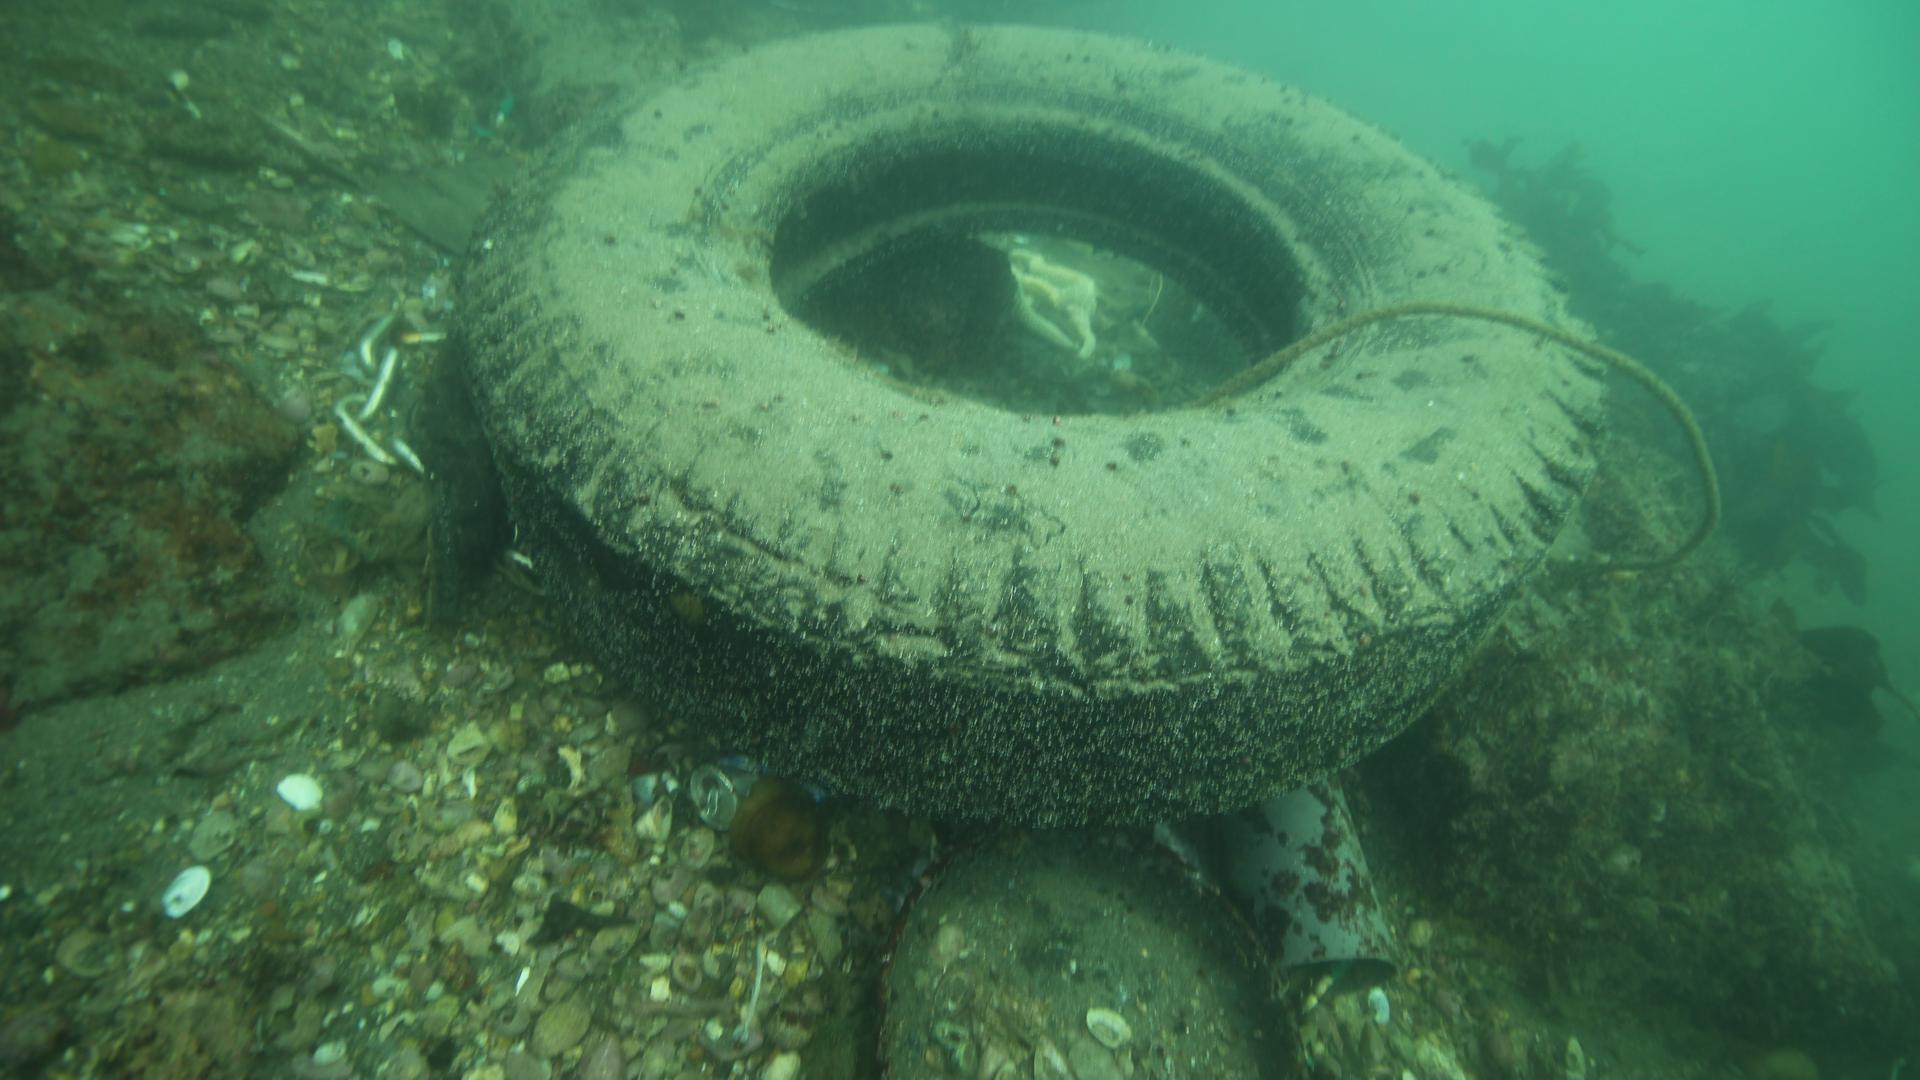rope: (1182, 295, 1726, 574)
tire: (450, 12, 1618, 829)
